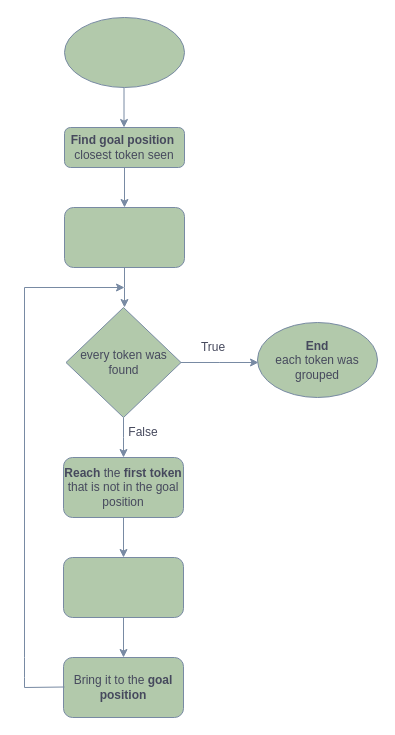
This 395x735 diagram has some shape labels left out. The box of each missing label's shape, as (x1, y1, x2, y2) in pixels:
Exploration list each token in the arena: (64, 206, 184, 268)
Grab it: (62, 556, 184, 618)
Start no grouped tokens: (64, 16, 184, 88)
